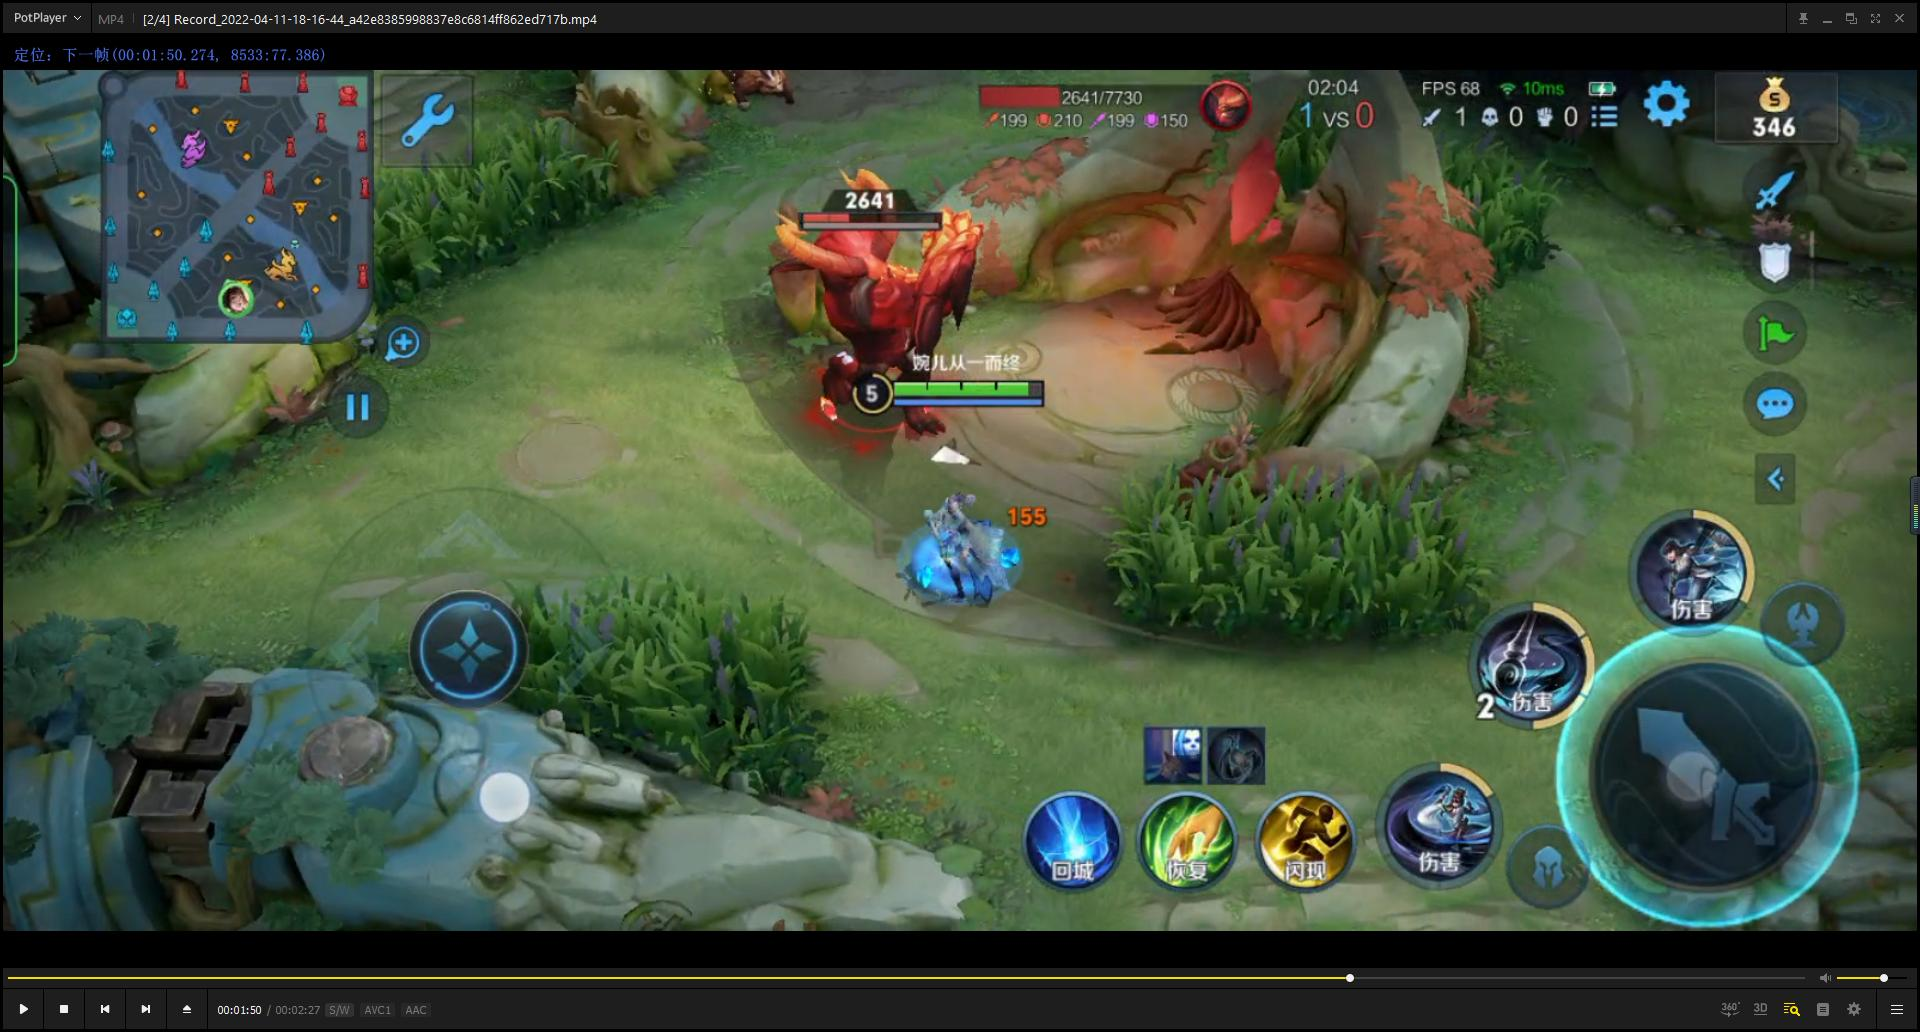Buff: (718, 172, 1005, 458)
Hero: (863, 452, 1072, 608)
